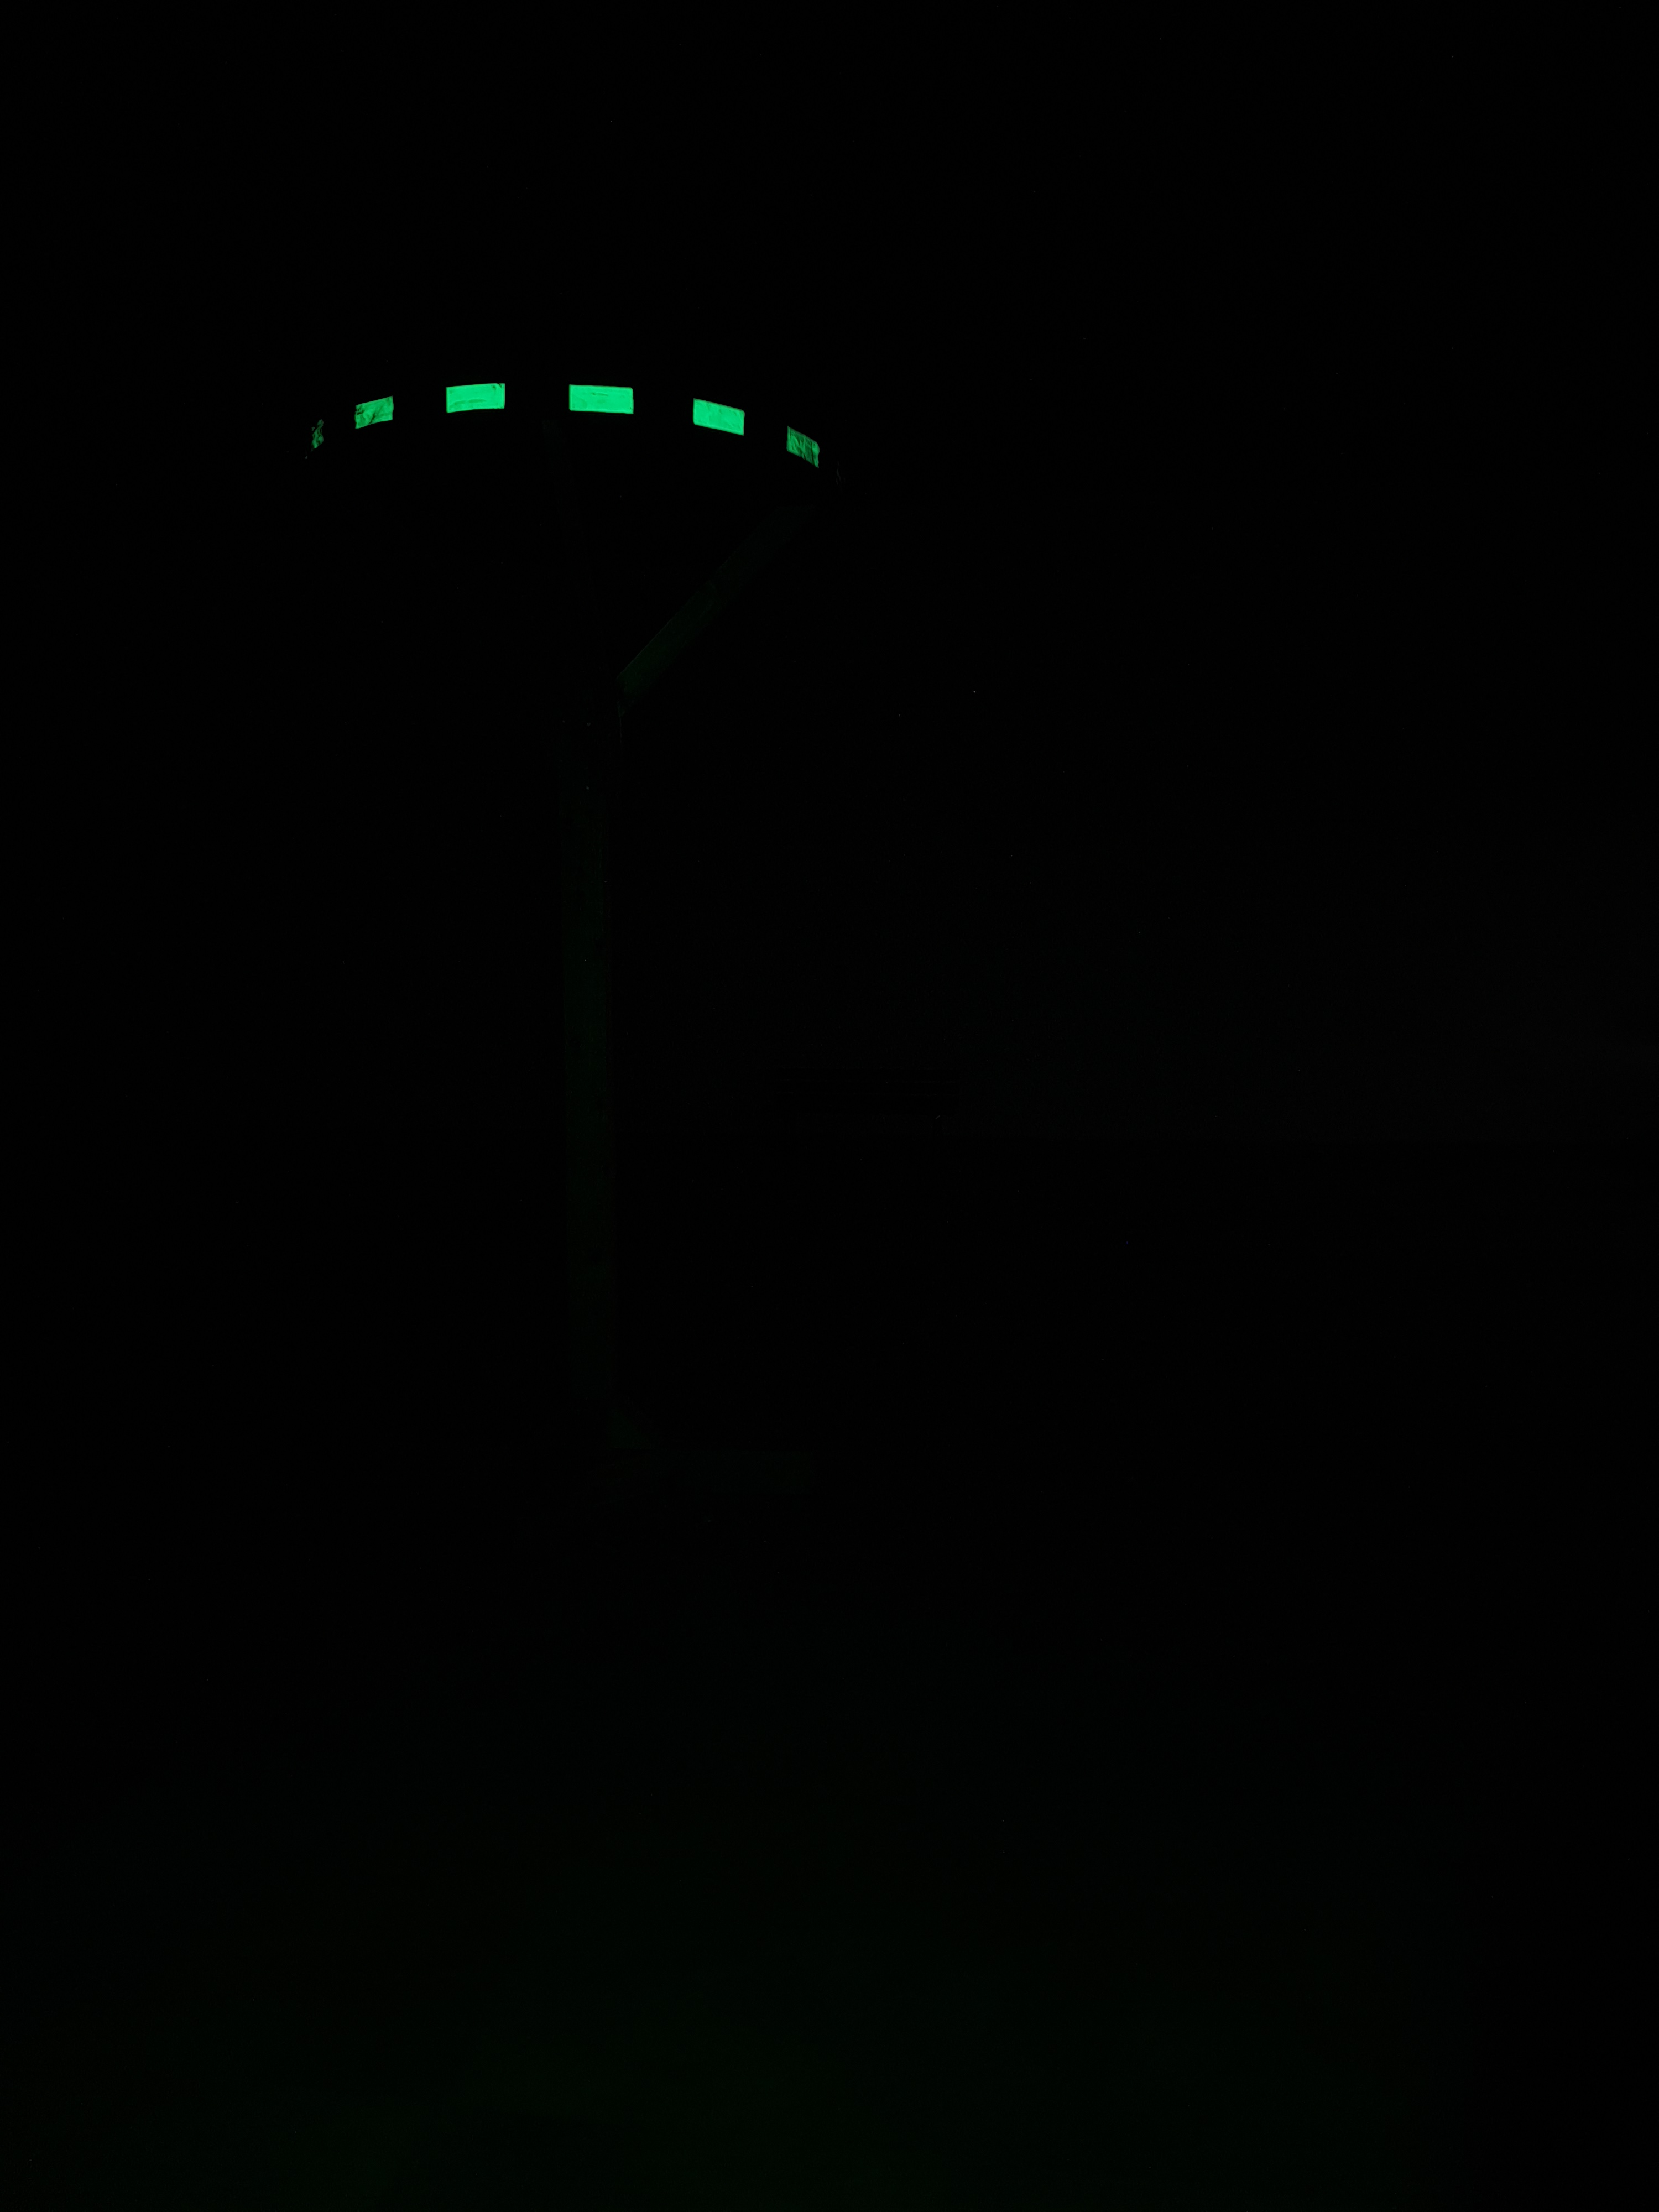hoop: (291, 371, 831, 484)
